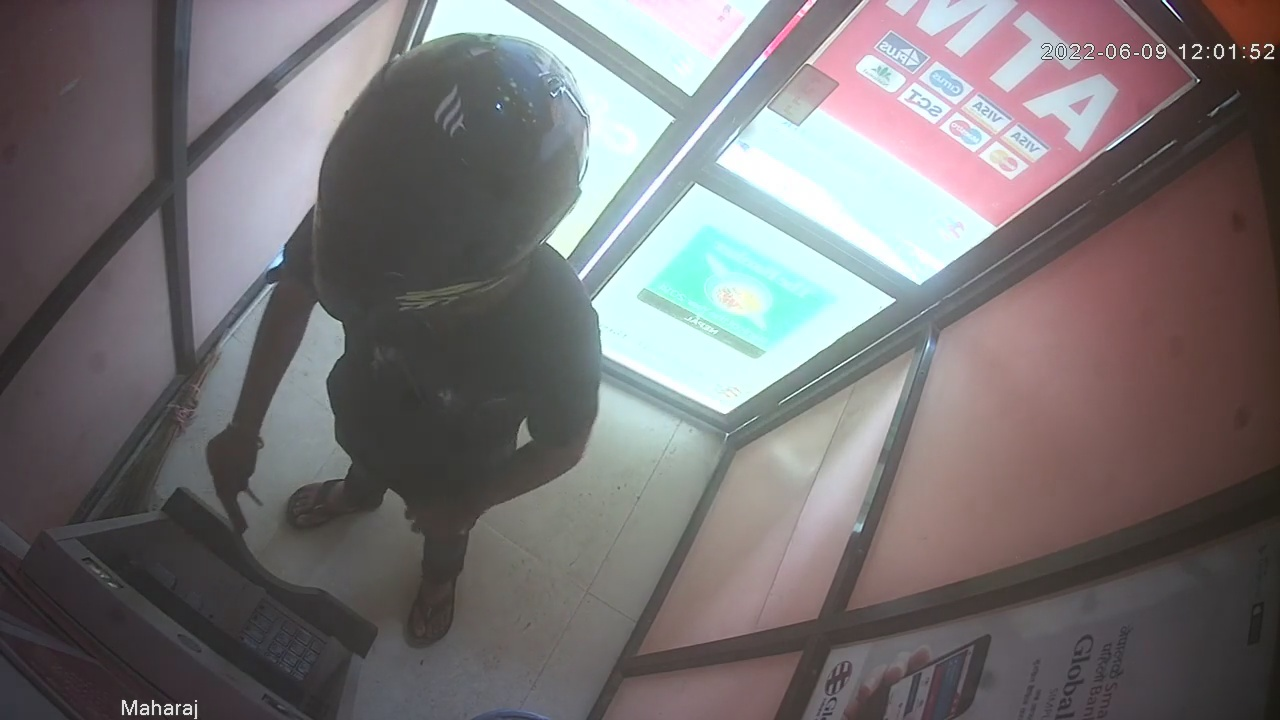helmet: (308, 31, 590, 320)
person: (204, 29, 604, 648)
